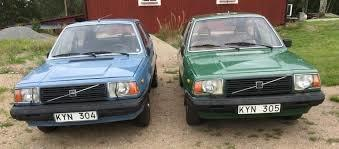license-plates: (54, 111, 98, 123), (239, 104, 282, 114)
